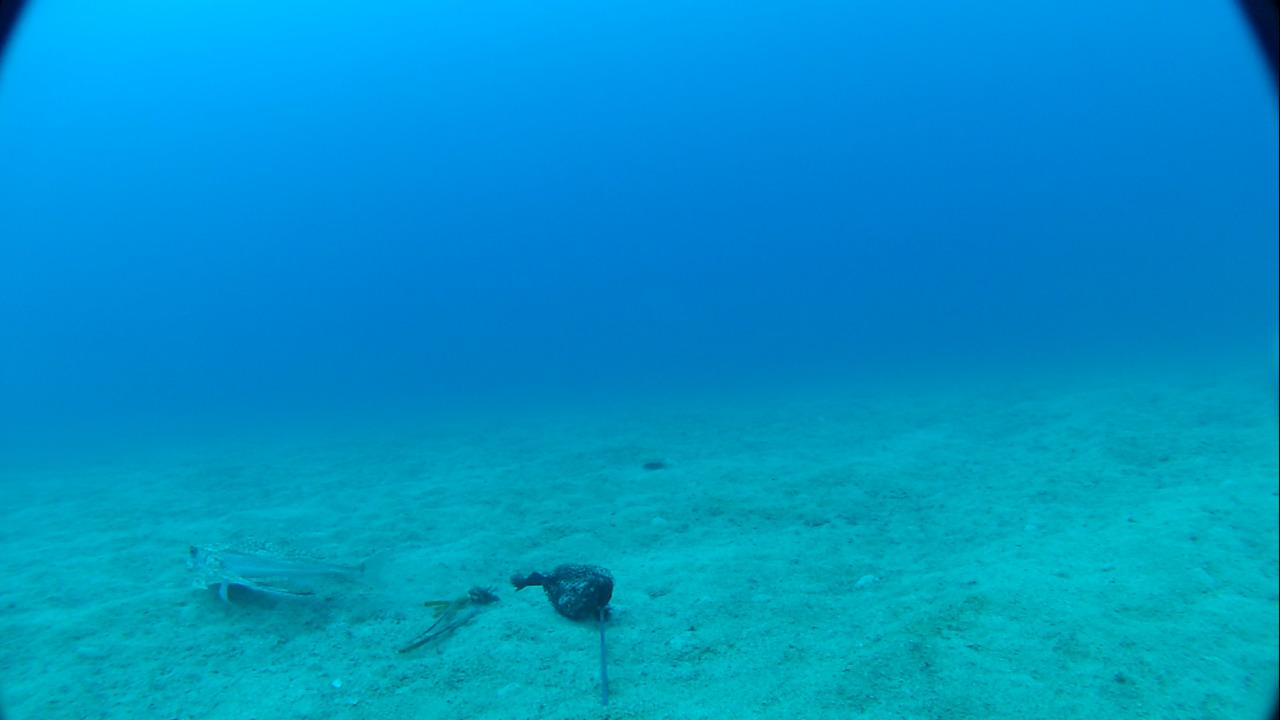dactylopterus: (172, 536, 388, 614)
